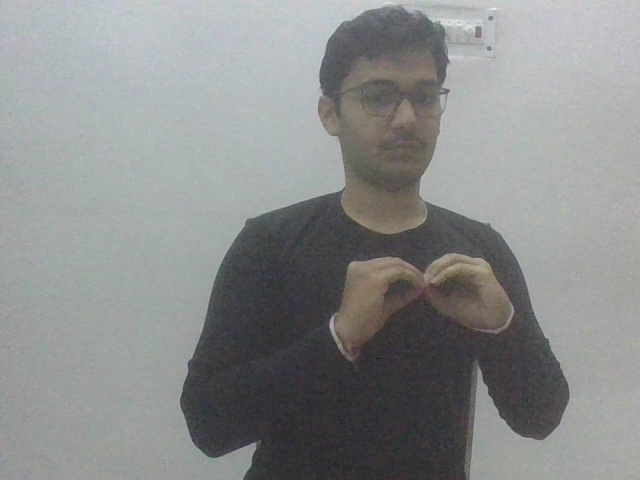B: (329, 248, 511, 337)
